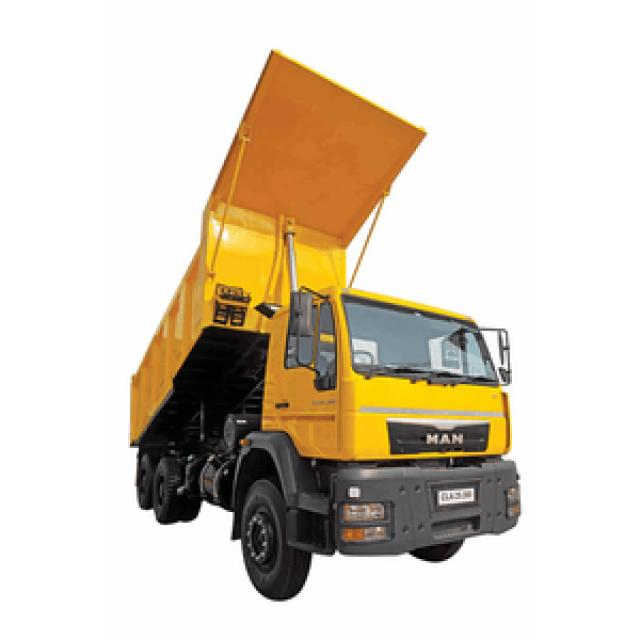truck: (130, 51, 520, 599)
